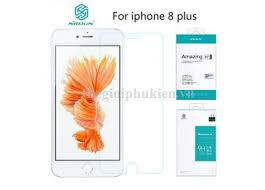iphone: (49, 25, 126, 179)
iphone8: (49, 24, 126, 178)
